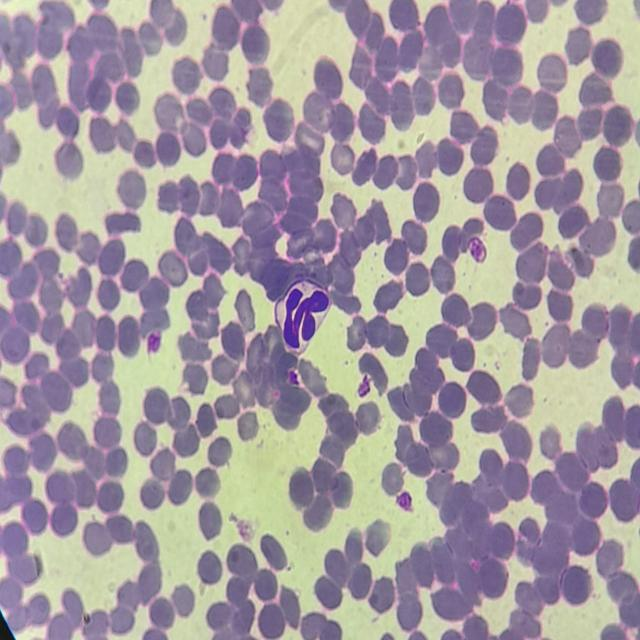Neutrofilo: (276, 283, 334, 354)
